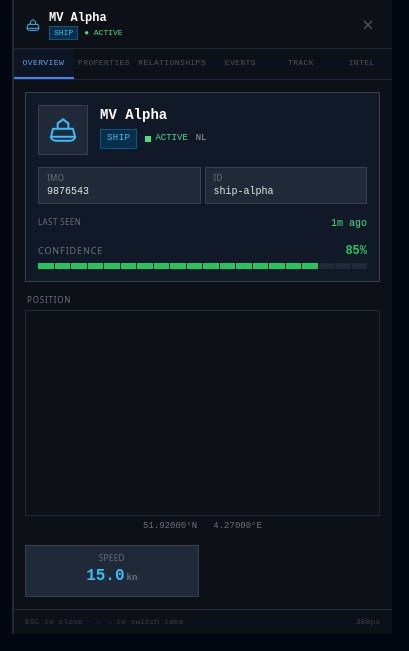
Test case: entityInspector - tab content › propertiesTabShowsSearchInputAndPropertyKeys
Expected: the 1st heading "MV Alpha" is shown, [49, 11, 107, 25]
What coordinates should you click on to do the following:
click the tab "PROPERTIES"
I would click on:
 (104, 64)
Its box is [74, 49, 134, 79].
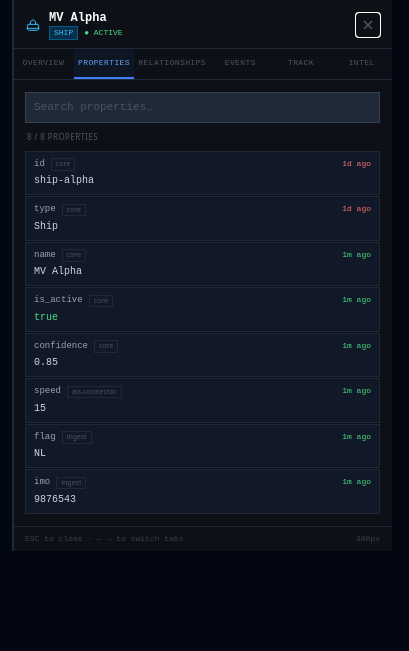
Expected: the text "id" is shown, [34, 158, 45, 171]
Expected: the field with placeholder "Search properties…" is shown, [25, 92, 380, 122]
Expected: the text "flag" is shown, [34, 430, 56, 444]
